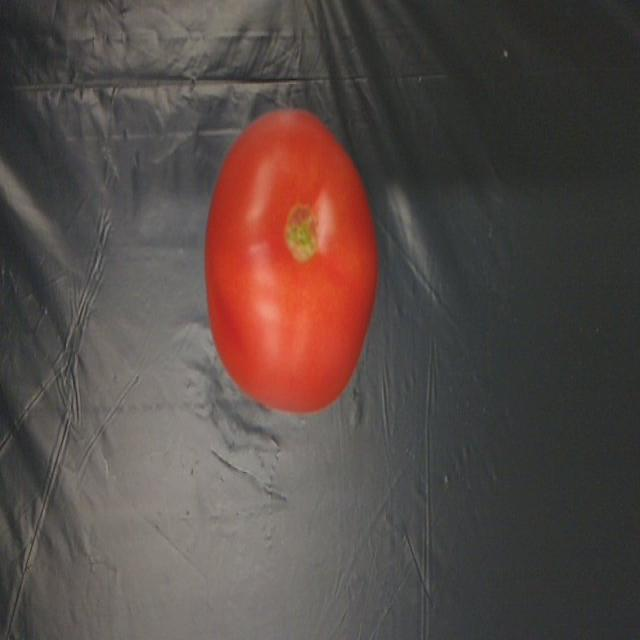kirmizi: (207, 99, 384, 432)
